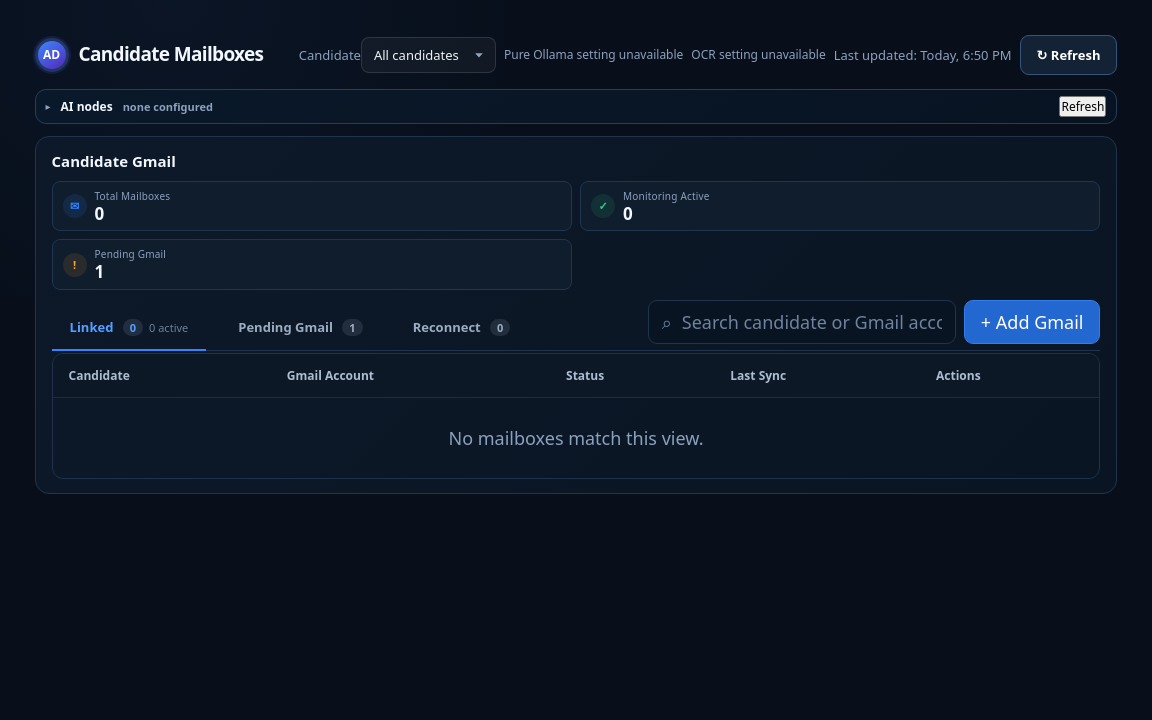
Test case: RecruitmentMailPanel › autopopulates the selected candidate's saved email address
Click the button "+ Add Gmail". click: (1032, 322)
box: [964,300,1100,344]
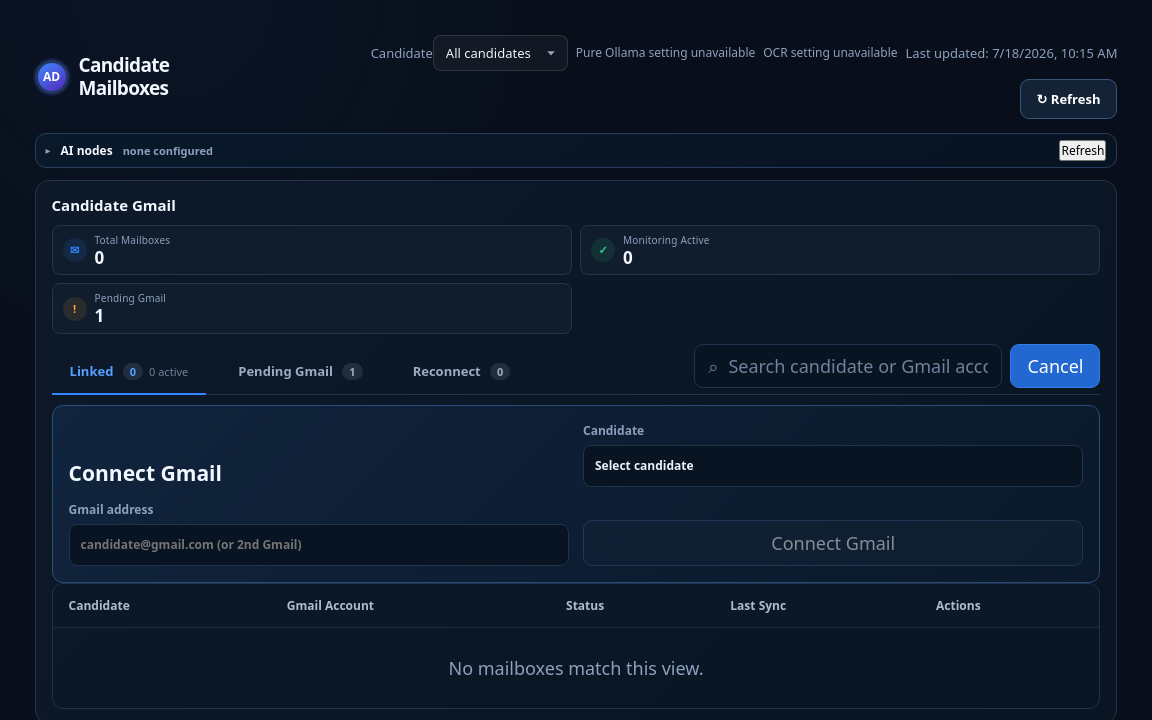
Select "Test Candidate · 9000000000" in the dropdown named "Candidate Gmail owner". click: (833, 466)
box: [583,445,1084,487]
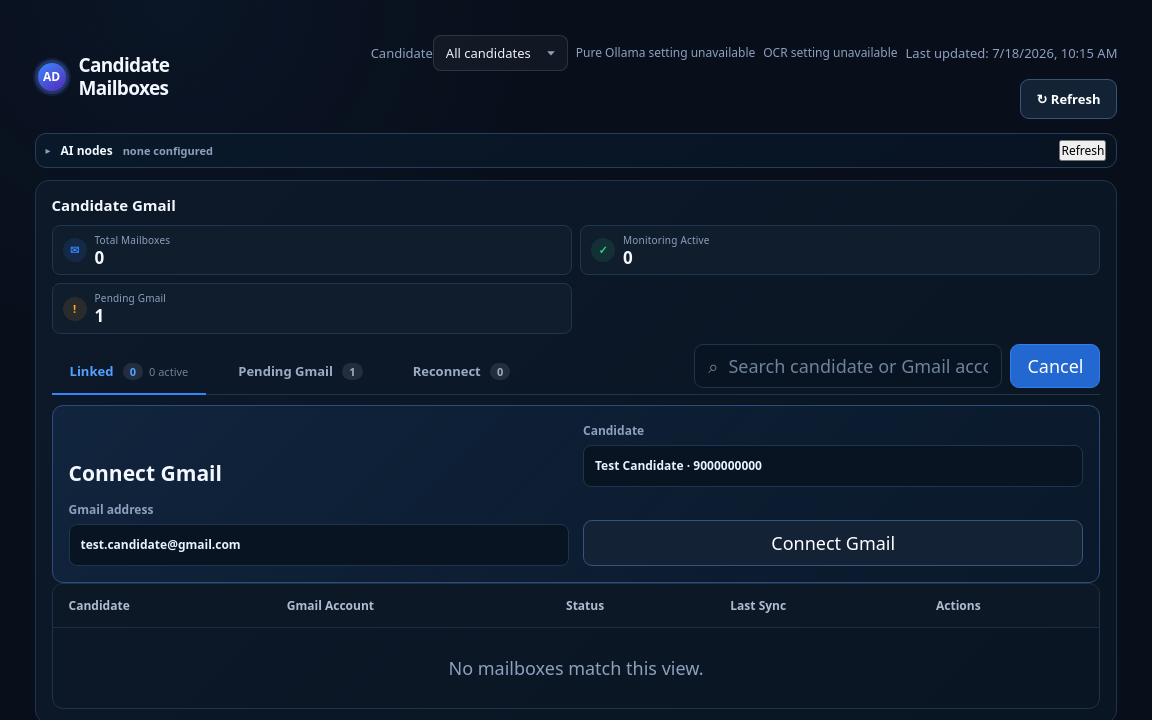
Check: the field labelled "Gmail address" holds "test.candidate@gmail.com", box [68,524,569,566]
Check: the button "Connect Gmail" is enabled, box [583,520,1084,566]
